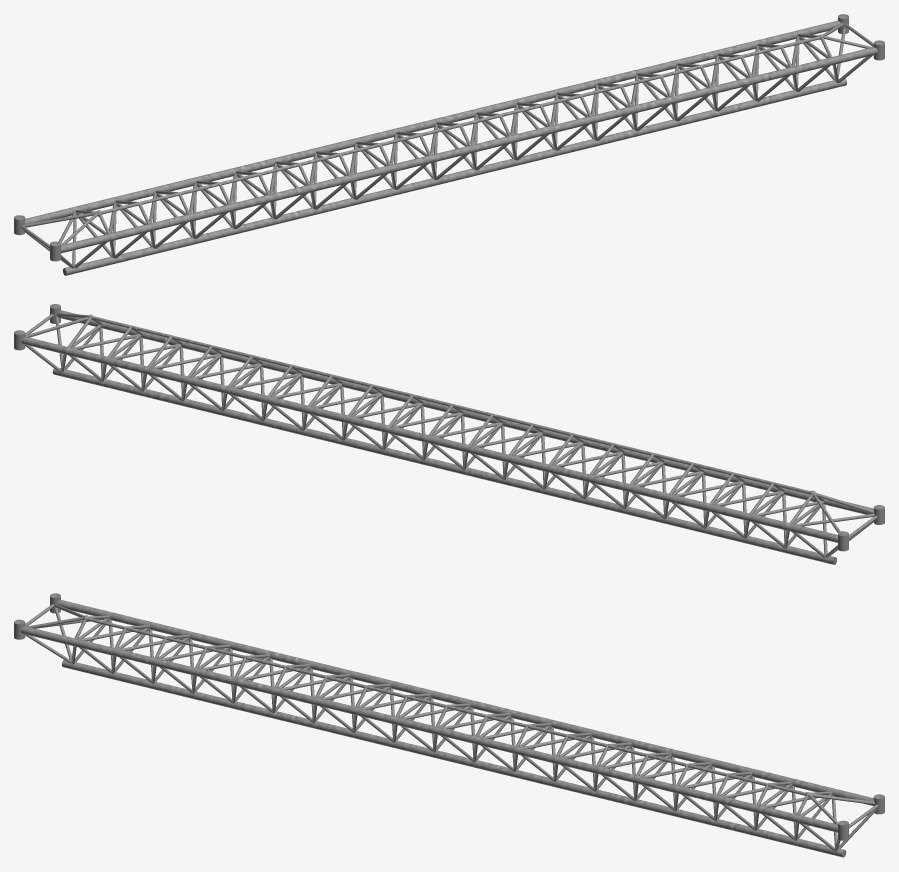
Rendered from zn_frame.obj.
The picture shows the model from 3 angles, top to bottom: view 1: azimuth 30°, elevation 25°; view 2: azimuth 150°, elevation 25°; view 3: azimuth 330°, elevation 25°; orthographic projection.
Visible parts, largest first — view 1: Cylinder001, Cylinder003, Cylinder002, Cylinder004; view 2: Cylinder002, Cylinder003, Cylinder001, Cylinder004; view 3: Cylinder001, Cylinder003, Cylinder002, Cylinder004.
Boxes of the visible parts, x1,y1,x2,y2 form: Cylinder001: (60,47,878,253); Cylinder003: (63,78,846,275); Cylinder002: (25,20,841,224); Cylinder004: (101,36,820,214); Cylinder002: (21,336,837,542); Cylinder003: (52,368,836,564); Cylinder001: (57,310,873,514); Cylinder004: (92,316,810,493); Cylinder001: (20,626,837,832); Cylinder003: (62,660,846,857); Cylinder002: (57,600,873,806); Cylinder004: (87,617,805,795).
Size of the model in its own units: 854 by 61.33 by 73.82.
Materials: 1 (1 with a texture image).
